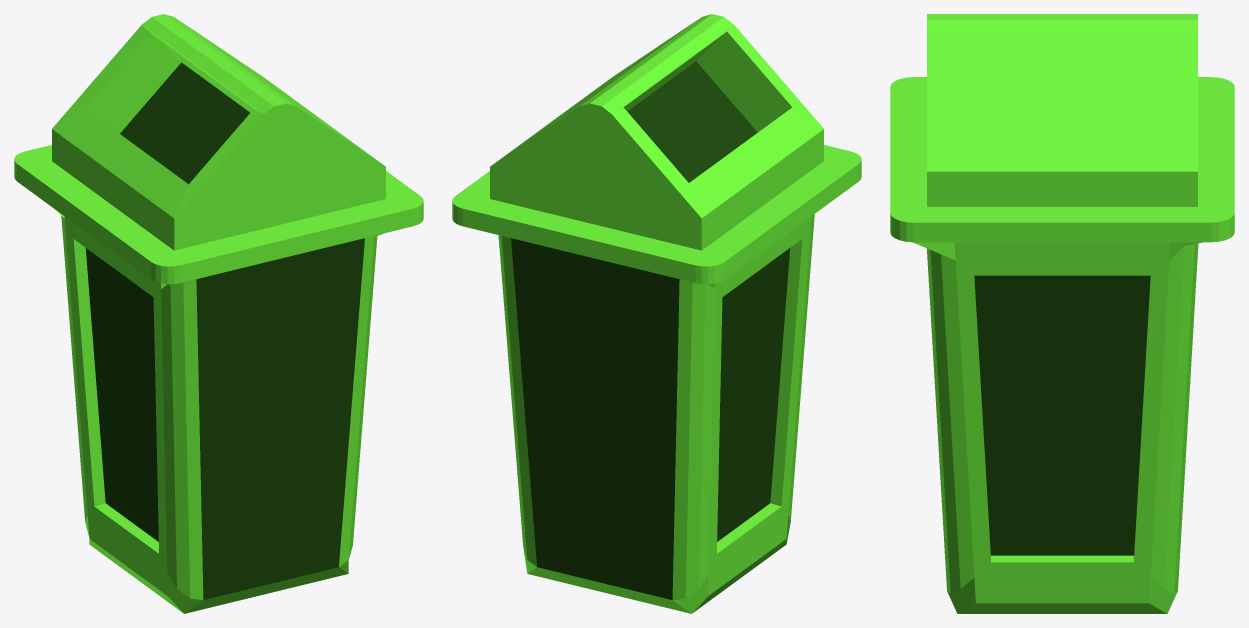
Rendered from tacho 1.fbx.
3 views of the same model, side by side, from view 1: azimuth 30°, elevation 25°; view 2: azimuth 150°, elevation 25°; view 3: azimuth 270°, elevation 25° (orthographic). The views are drawn at different scales.
Visible parts, largest first — view 1: Cube; view 2: Cube; view 3: Cube.
Boxes of the visible parts, bbox=[...] form: Cube: bbox=[14, 14, 423, 613]; Cube: bbox=[452, 14, 861, 613]; Cube: bbox=[890, 14, 1234, 613].
Bounding box in the file's own units: 298 × 528 × 298.
